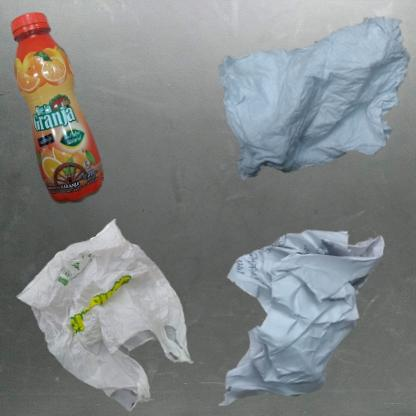bolsa: (10, 213, 202, 416)
botella: (10, 10, 105, 209)
papel: (213, 10, 416, 190), (213, 213, 390, 416)
